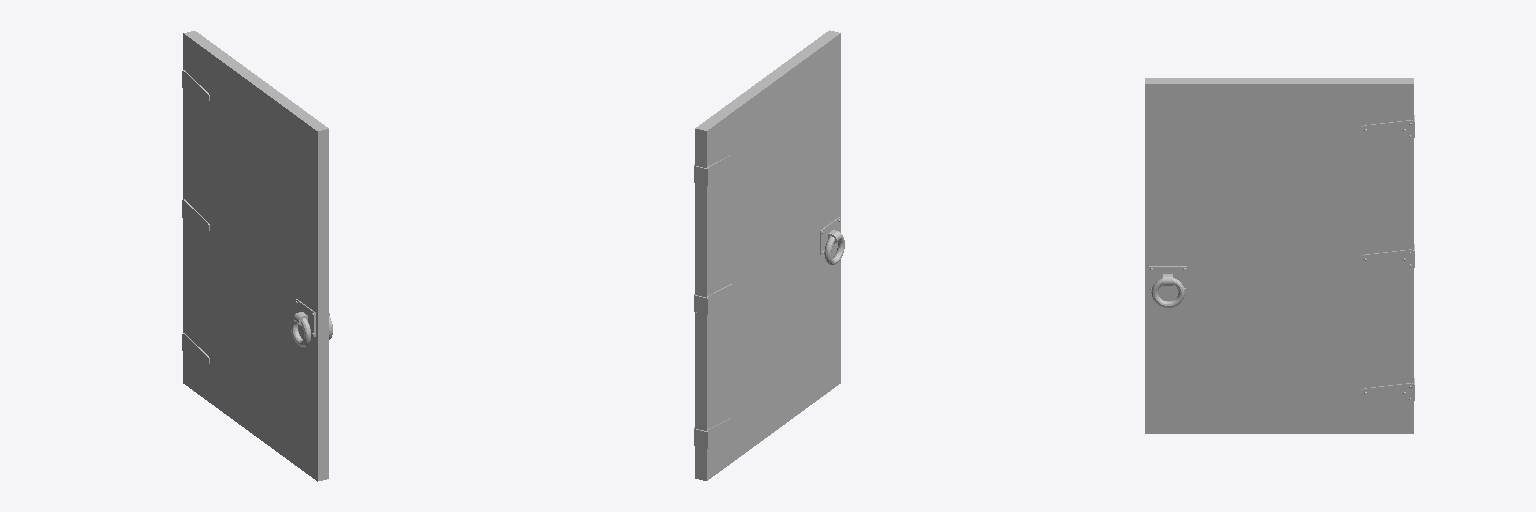
The model's file is porte1.obj.
3 views of the same model, side by side, from view 1: azimuth 30°, elevation 25°; view 2: azimuth 150°, elevation 25°; view 3: azimuth 270°, elevation 25° (orthographic).
Visible parts, largest first — view 1: Cube.002, Cube.003, Cube.001, Cube, Cube.005; view 2: Cube, Cube.003, Cube.001, Cube.002, Cube.005; view 3: Cube.001, Cube.003, Cube.002, Cube, Cube.005.
Boxes of the visible parts, box(x1,y1,x2,y2) form: Cube.002: box(284, 104, 328, 481); Cube.003: box(217, 55, 261, 432); Cube.001: box(251, 80, 294, 456); Cube: box(183, 31, 227, 407); Cube.005: box(182, 70, 329, 364); Cube: box(695, 104, 739, 480); Cube.003: box(729, 79, 773, 456); Cube.001: box(763, 55, 806, 431); Cube.002: box(796, 30, 840, 407); Cube.005: box(694, 155, 841, 448); Cube.001: box(1213, 78, 1279, 433); Cube.003: box(1280, 78, 1346, 433); Cube.002: box(1145, 78, 1212, 433); Cube: box(1347, 78, 1413, 433); Cube.005: box(1149, 115, 1414, 402).
Size of the model in its own units: 0.1332 by 1.44 by 1.